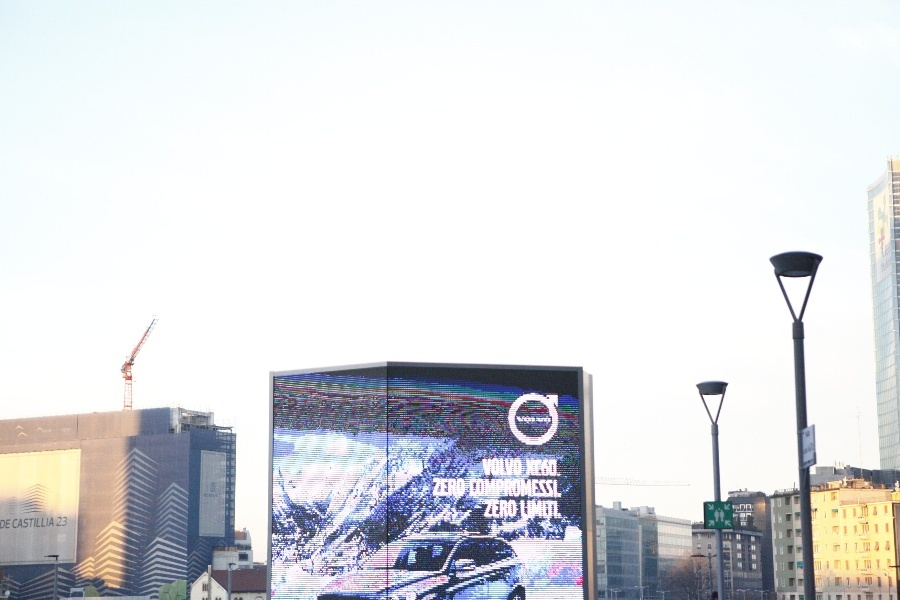text: (433, 478, 448, 497), (449, 478, 464, 497), (883, 237, 896, 258), (545, 460, 561, 477), (481, 479, 496, 497), (497, 479, 512, 497), (513, 479, 528, 497), (529, 479, 544, 497), (545, 479, 560, 497), (497, 500, 512, 518), (529, 501, 544, 519), (545, 501, 560, 519), (497, 459, 512, 476), (529, 460, 544, 477), (482, 459, 496, 476), (881, 254, 892, 273), (485, 500, 496, 518), (17, 517, 32, 529), (33, 517, 48, 529), (470, 479, 480, 497), (513, 459, 523, 476), (1, 519, 16, 529), (520, 501, 528, 519), (57, 516, 64, 527), (529, 418, 544, 423), (209, 494, 222, 499), (515, 418, 528, 423), (49, 517, 54, 529), (513, 500, 516, 518), (13, 517, 16, 529), (526, 460, 528, 477), (65, 516, 68, 527), (545, 418, 551, 423), (204, 494, 208, 499), (465, 478, 466, 497), (561, 479, 562, 497), (561, 501, 562, 519)
